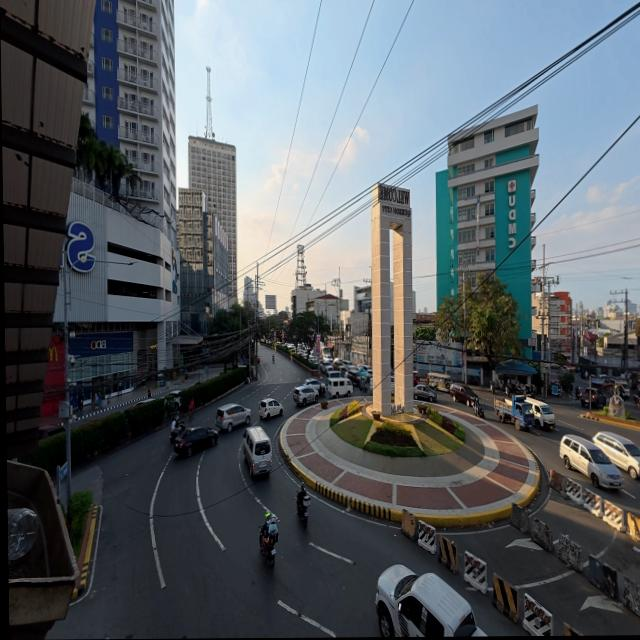Jeepneys: (426, 373, 452, 392)
car: (375, 565, 485, 636), (174, 427, 217, 457), (215, 403, 250, 431), (449, 384, 477, 406), (293, 385, 318, 406), (258, 398, 282, 419), (413, 384, 435, 402), (37, 425, 63, 439), (611, 379, 629, 398), (304, 379, 324, 395), (165, 390, 182, 408), (318, 362, 333, 375), (133, 398, 153, 407), (337, 363, 347, 373), (341, 360, 352, 369), (413, 371, 419, 386), (332, 358, 340, 368), (286, 344, 294, 351)
motorcycle: (259, 526, 277, 567), (297, 494, 309, 527), (169, 424, 183, 443), (473, 403, 483, 418), (489, 381, 499, 393), (169, 428, 177, 443), (271, 355, 273, 363)
trucks: (493, 395, 532, 429)
vans: (559, 436, 622, 488), (593, 432, 639, 478), (242, 426, 271, 475), (525, 397, 554, 429), (327, 374, 351, 397), (327, 371, 343, 381)
